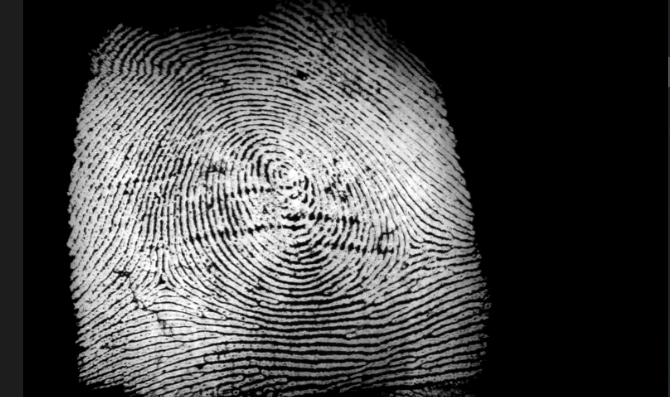nucelo: (278, 166, 294, 183)
verticilo: (401, 233, 422, 253), (157, 272, 173, 292)
